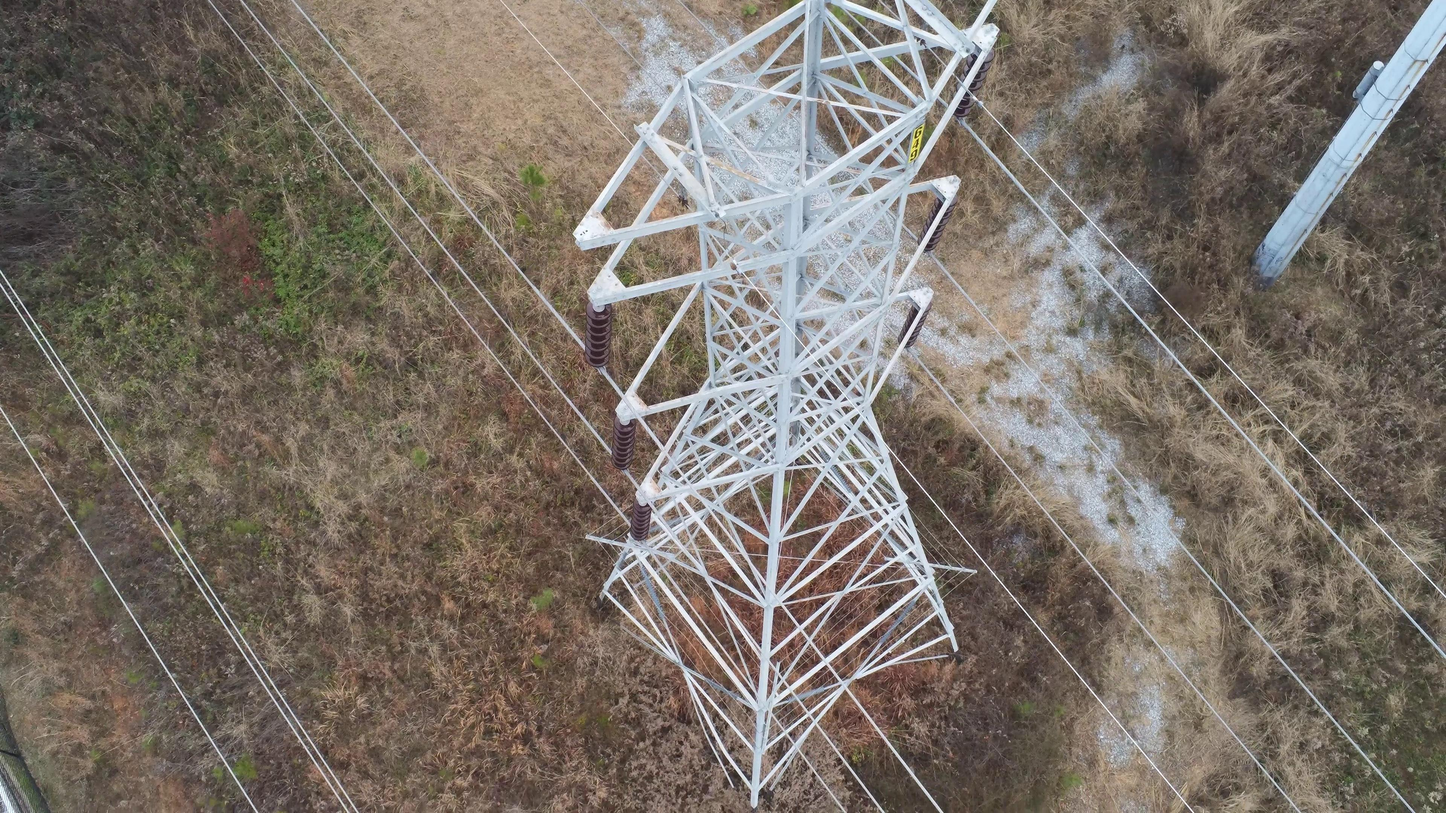power_tower: (572, 0, 1000, 809)
